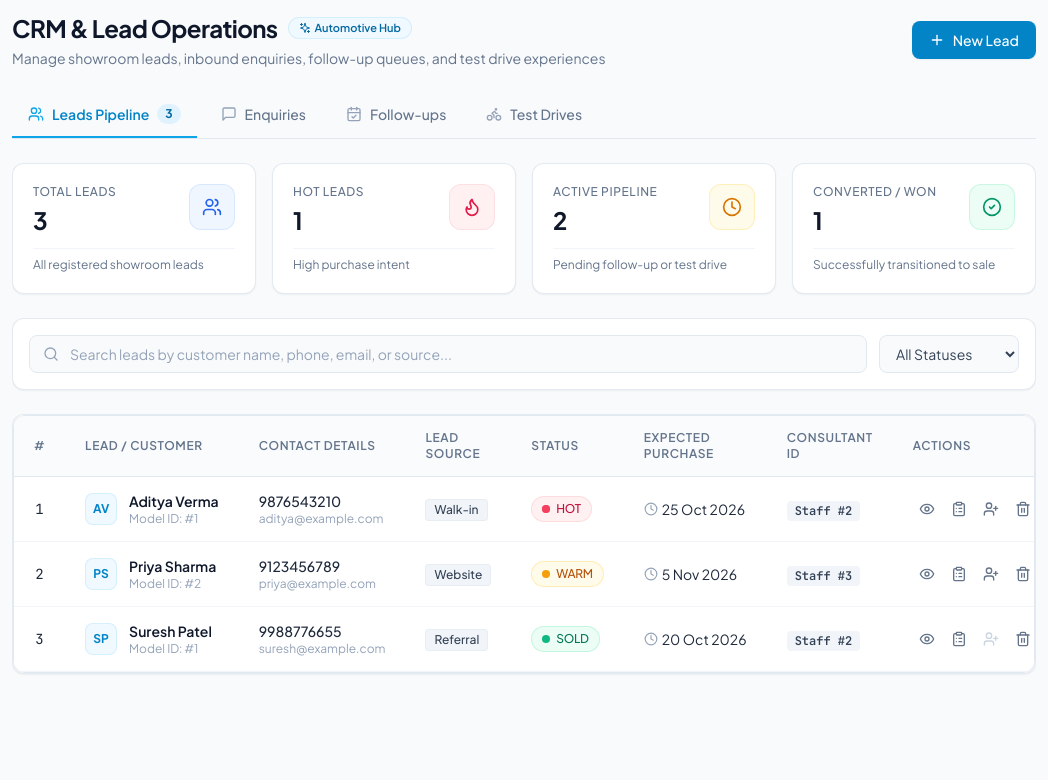
Test case: CrmPage (Phase 3 Redesign) › filters leads by search input keyword
Type "Priya" into the field with placeholder "Search leads by customer name, phone, email, or source...".
click(448, 354); type("Priya")  # box [29,335,867,373]
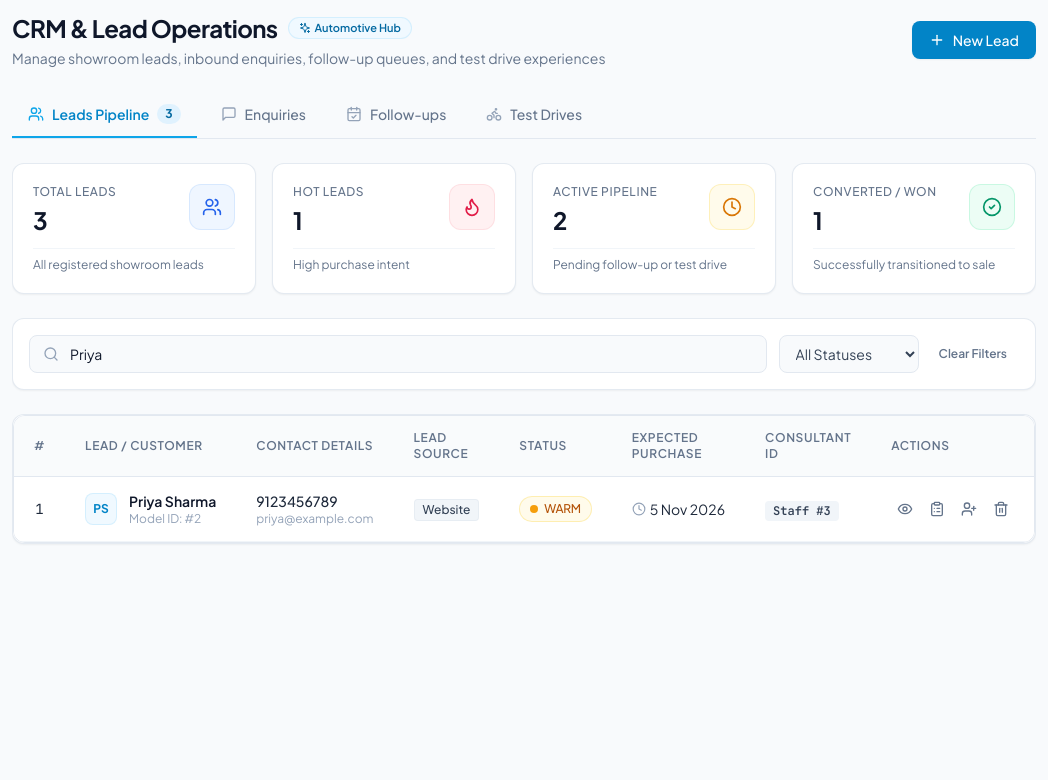
Expected: the text "Priya Sharma" is shown, [129,491,216,511]
Now the text "Aditya Verma" is gone
Now the text "Suresh Patel" is gone
